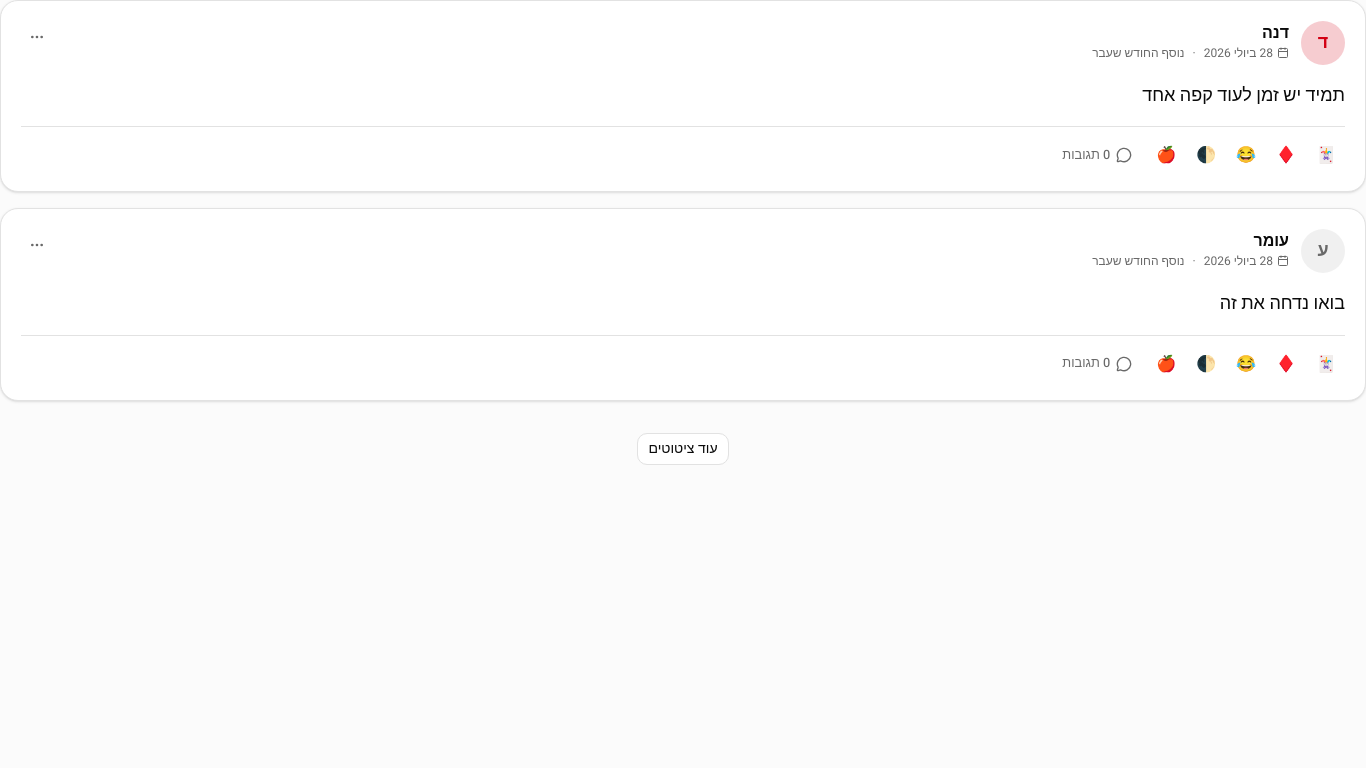
Test: QuoteFeed › loads the next page on demand, skipping what is already shown
The width and height of the screenshot is (1366, 768).
Click the button "עוד ציטוטים". click: (683, 448)
box: [638,432,729,464]
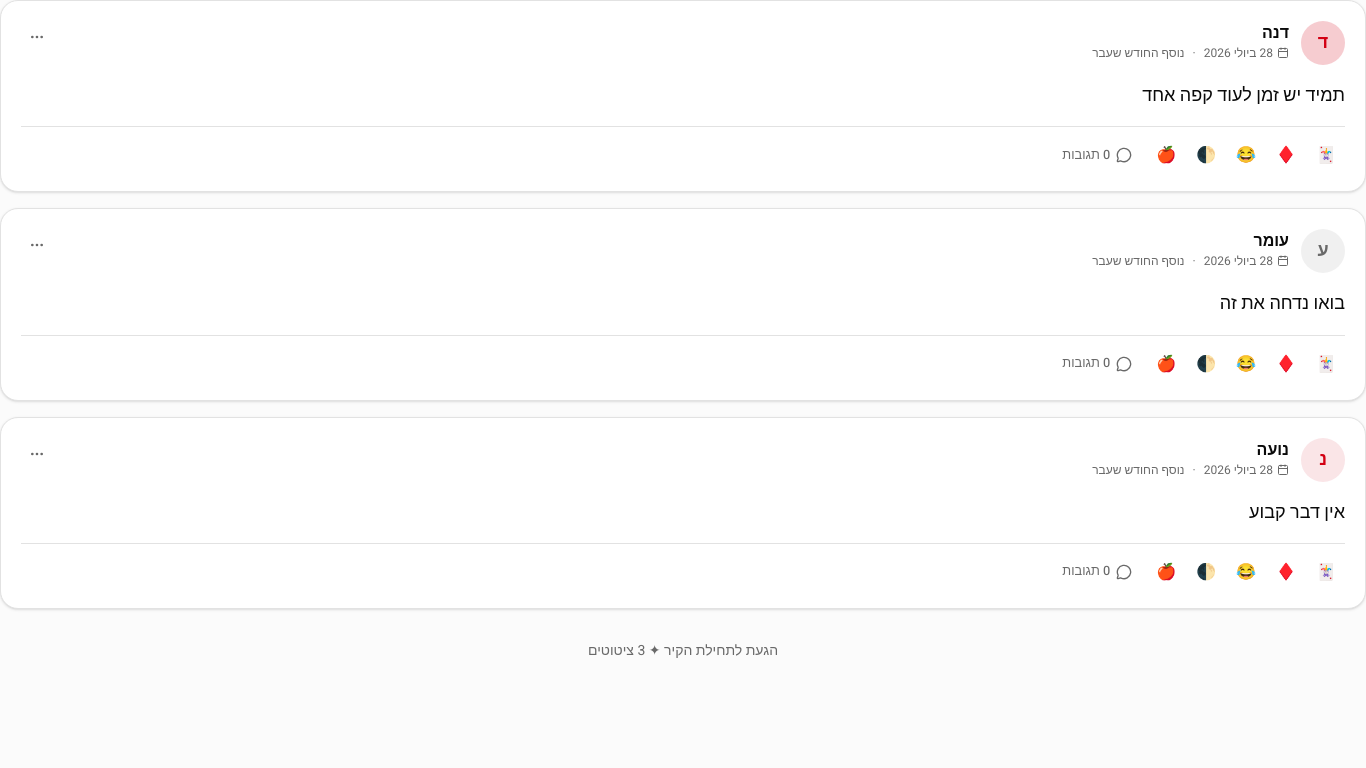
Check: the text "אין דבר קבוע" is shown, box [1249,498,1345,526]
